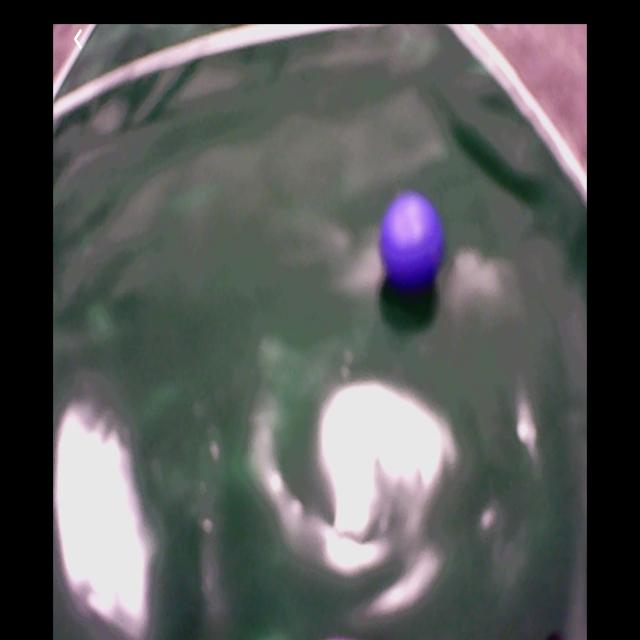ball: (380, 188, 444, 290)
